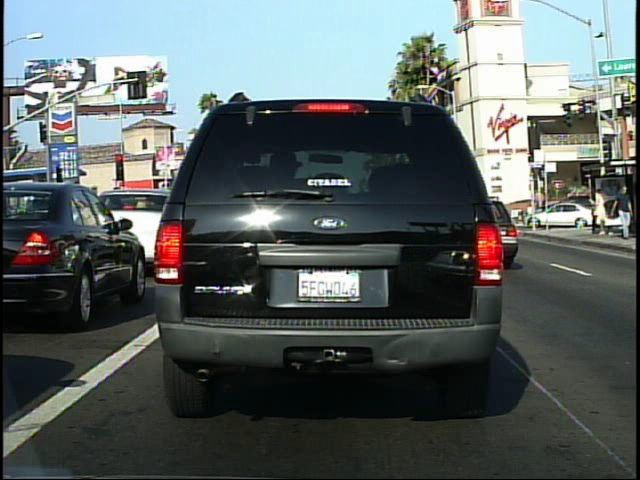person: (614, 180, 633, 242), (592, 183, 610, 240), (525, 202, 538, 226)
